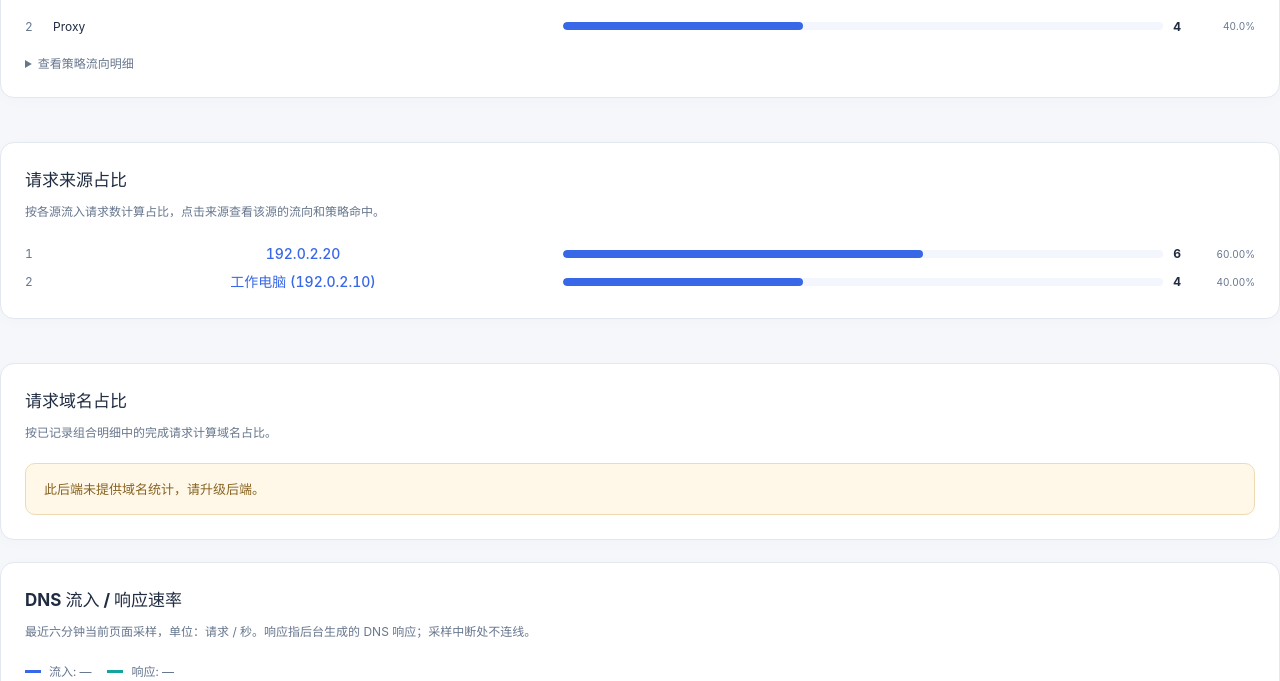
Test: shows configured client names while keeping source requests keyed by IP
(page scrolled)
Click the button with aria-label "查看 工作电脑 (192.0.2.10) 的流向" at (303, 282), box [53,271,553,293]
(page scrolled)
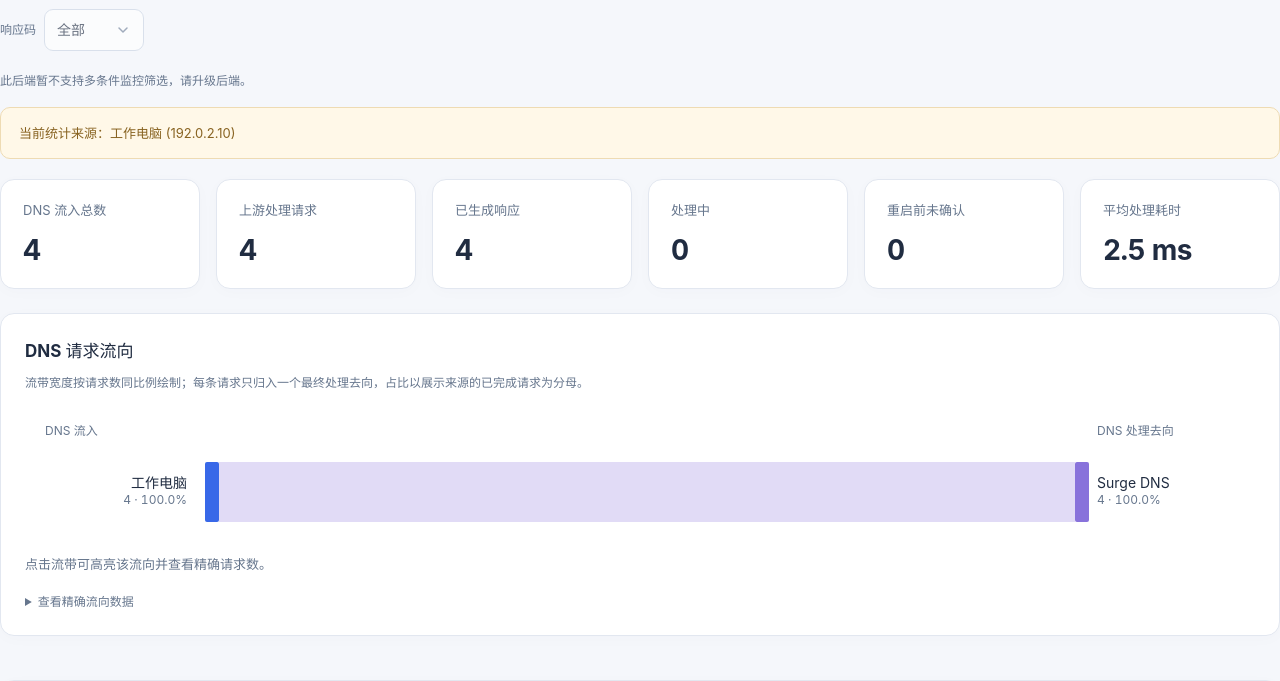
Result: the text "当前统计来源：工作电脑 (192.0.2.10)" is shown at [0,107,1279,159]
